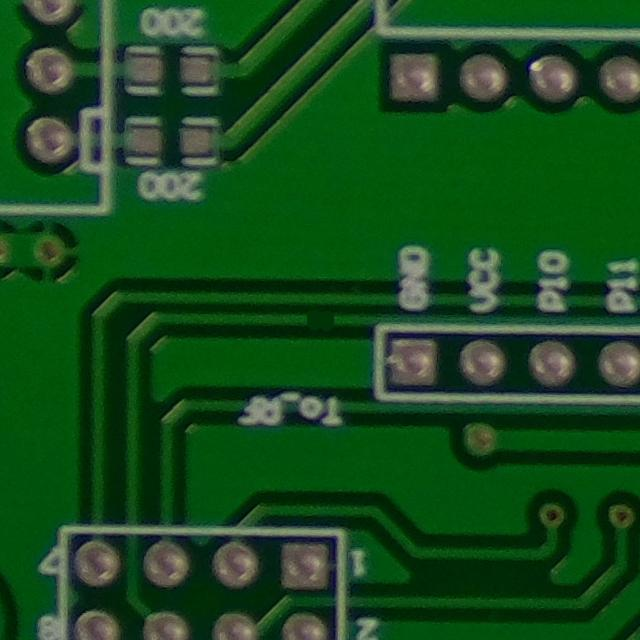open_circuit: (298, 307, 342, 334)
